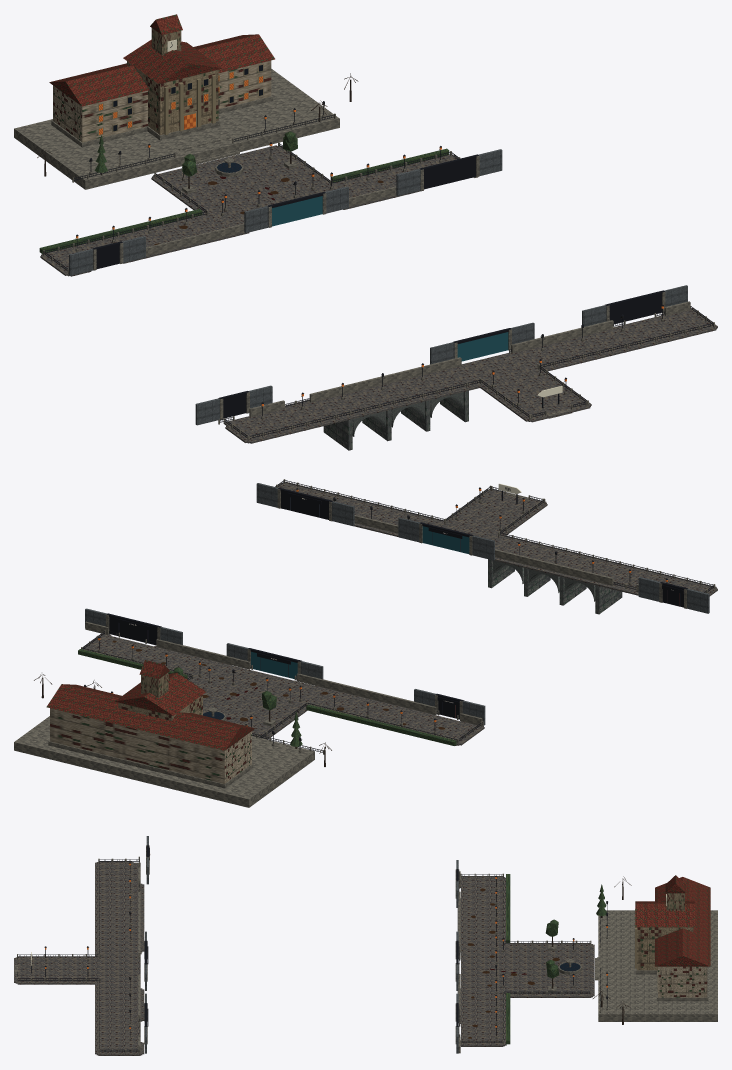
Rendered from Maribor_Shared.fbx.
3 views of the same model, one above another, from view 1: azimuth 30°, elevation 25°; view 2: azimuth 150°, elevation 25°; view 3: azimuth 270°, elevation 25° (orthographic). The views are drawn at different scales.
Visible parts, largest first — view 1: PL_Shared_City_004, PL_Shared_Ground_043, PL_Shared_City_005, PL_Shared_Ground_040, PL_Shared_Ground_041, PL_Shared_Ground_044, PL_Shared_City_030, PL_Shared_City_039, PL_Shared_City_034, PL_Shared_City_037, PL_Shared_City_001, PL_Shared_City_023 (+15 smaller); view 2: PL_Shared_City_004, PL_Shared_City_005, PL_Shared_Ground_043, PL_Shared_Ground_040, PL_Shared_Ground_041, PL_Shared_Ground_044, PL_Shared_City_030, PL_Shared_City_022, PL_Shared_City_039, PL_Shared_City_019, PL_Shared_City_016, PL_Shared_City_023 (+16 smaller); view 3: PL_Shared_City_004, PL_Shared_Ground_043, PL_Shared_Ground_040, PL_Shared_Ground_041, PL_Shared_City_005, PL_Shared_Ground_044, PL_Shared_City_001, PL_Shared_City_000, PL_Shared_City_016, PL_Shared_City_012.
Boxes of the visible parts, x1,y1,x2,y2 form: PL_Shared_City_004: (14,28,339,189); PL_Shared_Ground_043: (223,308,717,443); PL_Shared_City_005: (49,14,274,140); PL_Shared_Ground_040: (151,145,361,237); PL_Shared_Ground_041: (40,155,458,276); PL_Shared_Ground_044: (480,370,591,421); PL_Shared_City_030: (352,390,436,441); PL_Shared_City_039: (195,385,284,429); PL_Shared_City_034: (511,305,625,353); PL_Shared_City_037: (309,357,461,402); PL_Shared_City_001: (145,136,241,195); PL_Shared_City_023: (69,236,145,275); PL_Shared_City_004: (14,672,314,807); PL_Shared_City_005: (46,660,255,750); PL_Shared_Ground_043: (278,482,717,596); PL_Shared_Ground_040: (188,661,333,739); PL_Shared_Ground_041: (83,634,484,745); PL_Shared_Ground_044: (446,489,547,535); PL_Shared_City_030: (524,542,607,605); PL_Shared_City_022: (296,673,436,714); PL_Shared_City_039: (636,577,709,613); PL_Shared_City_019: (145,626,250,669); PL_Shared_City_016: (306,704,457,745); PL_Shared_City_023: (414,689,485,725); PL_Shared_City_004: (598,893,717,1021); PL_Shared_Ground_043: (95,861,144,1055); PL_Shared_Ground_040: (460,943,594,997); PL_Shared_Ground_041: (460,876,506,1046); PL_Shared_City_005: (635,875,710,982); PL_Shared_Ground_044: (17,956,94,984); PL_Shared_City_001: (545,919,612,980); PL_Shared_City_000: (546,960,608,995); PL_Shared_City_016: (480,874,510,942); PL_Shared_City_012: (472,993,510,1044).
Size of the model in its own units: 135 by 37.4 by 200.
